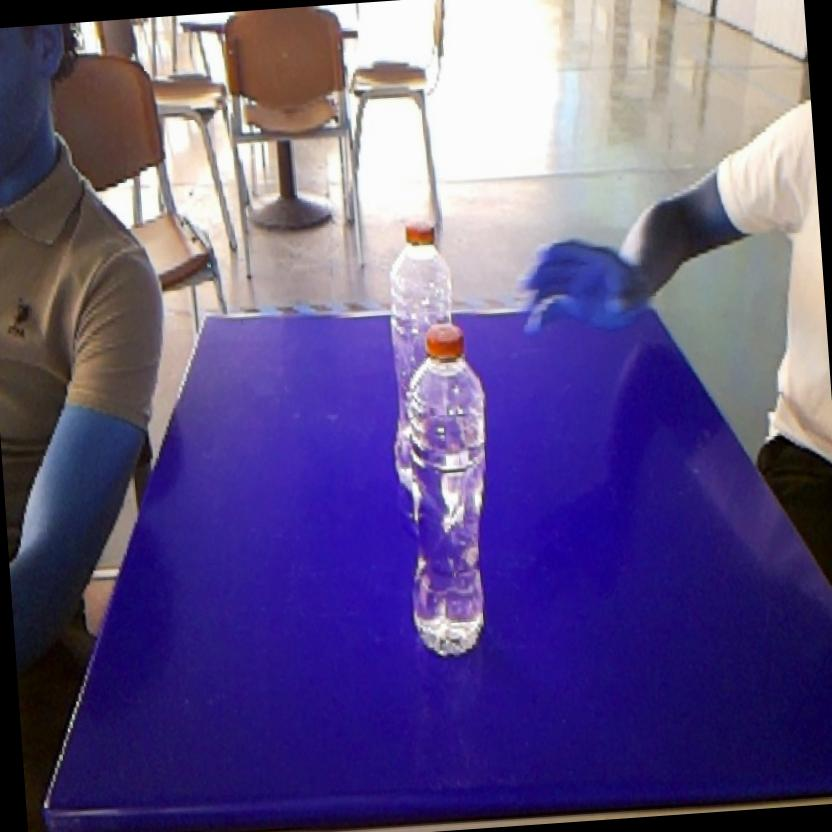no_label: (380, 314, 514, 672), (378, 204, 466, 326)
